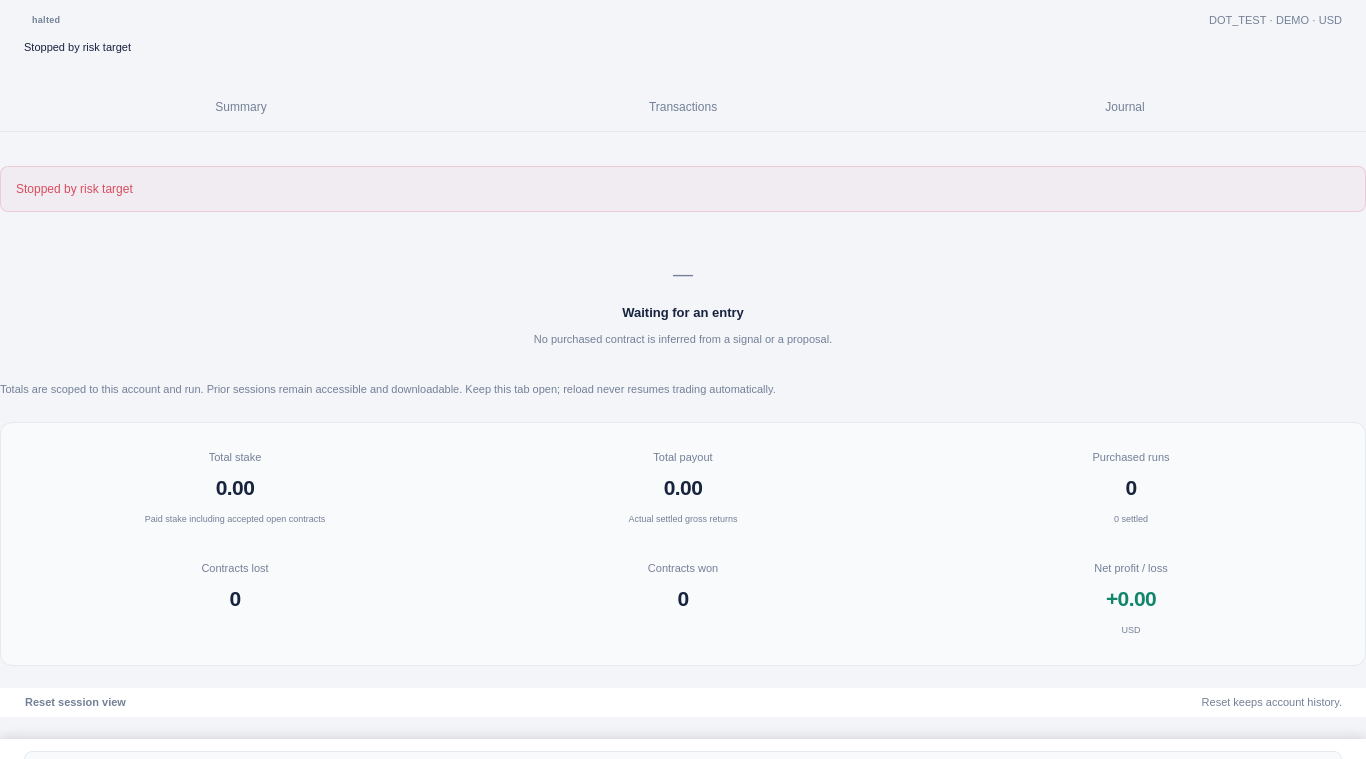
Test: opens prior transactions only for this account after view reset
Click the tab "Transactions" at (683, 108), box [462, 85, 904, 131]
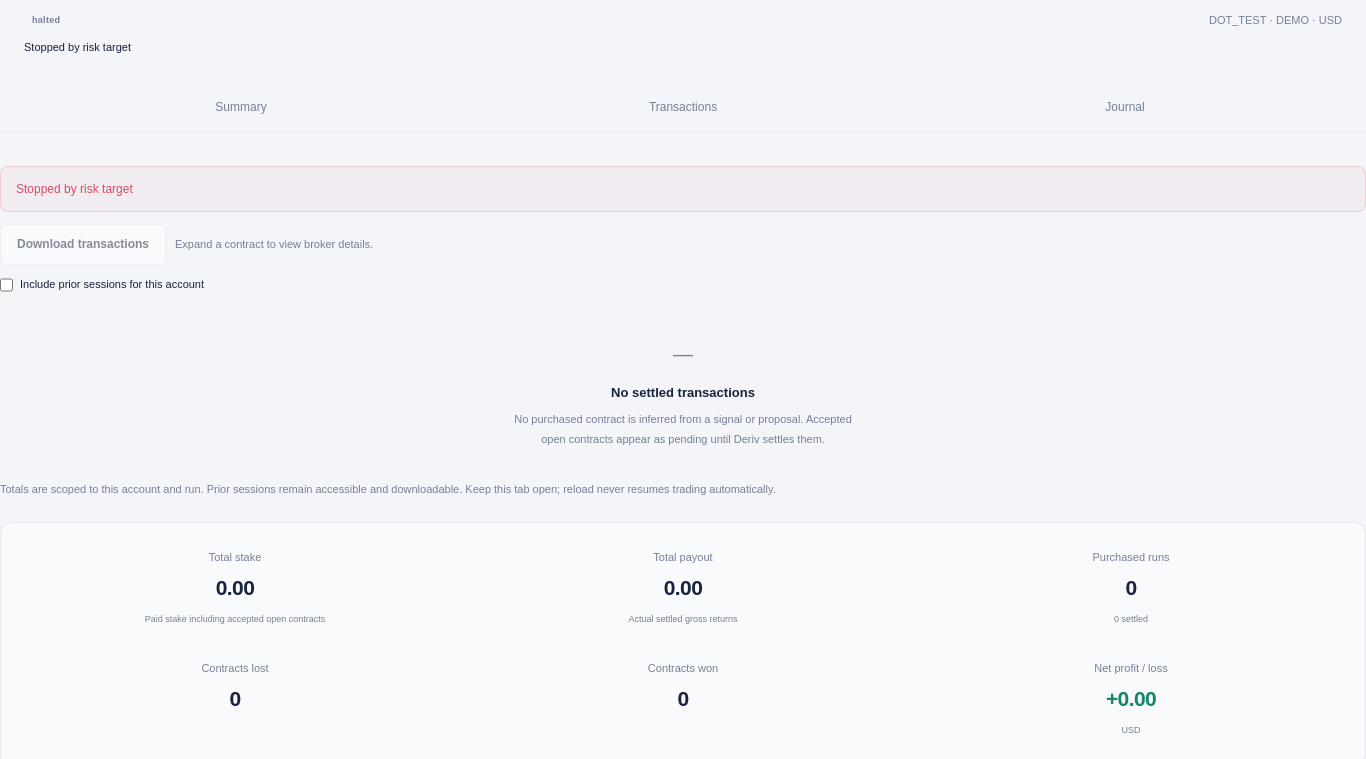
Expected: the text "9608.69" is not shown
Click the checkbox labelled "Include prior sessions for this account" at (6, 285), box [0, 276, 13, 294]
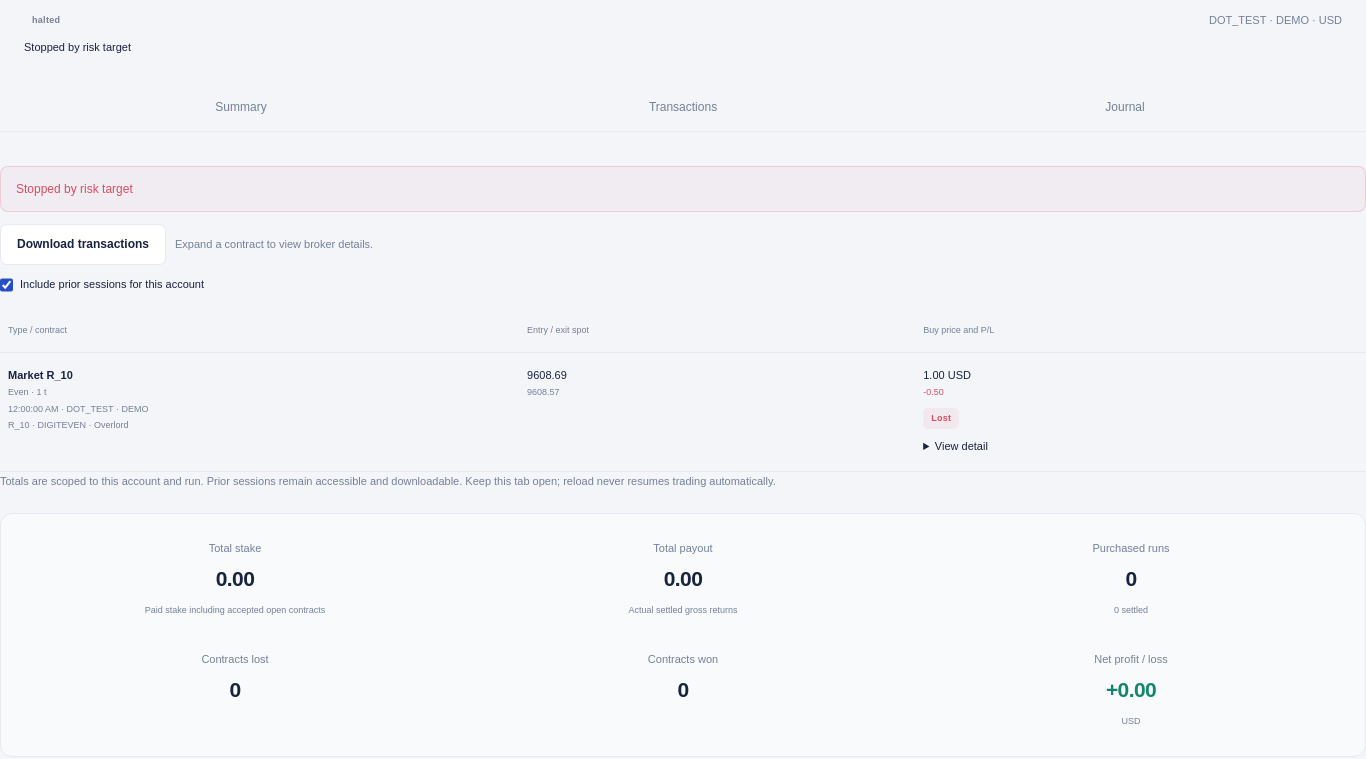
Result: the text "9608.69" is shown at [527, 369, 567, 381]
